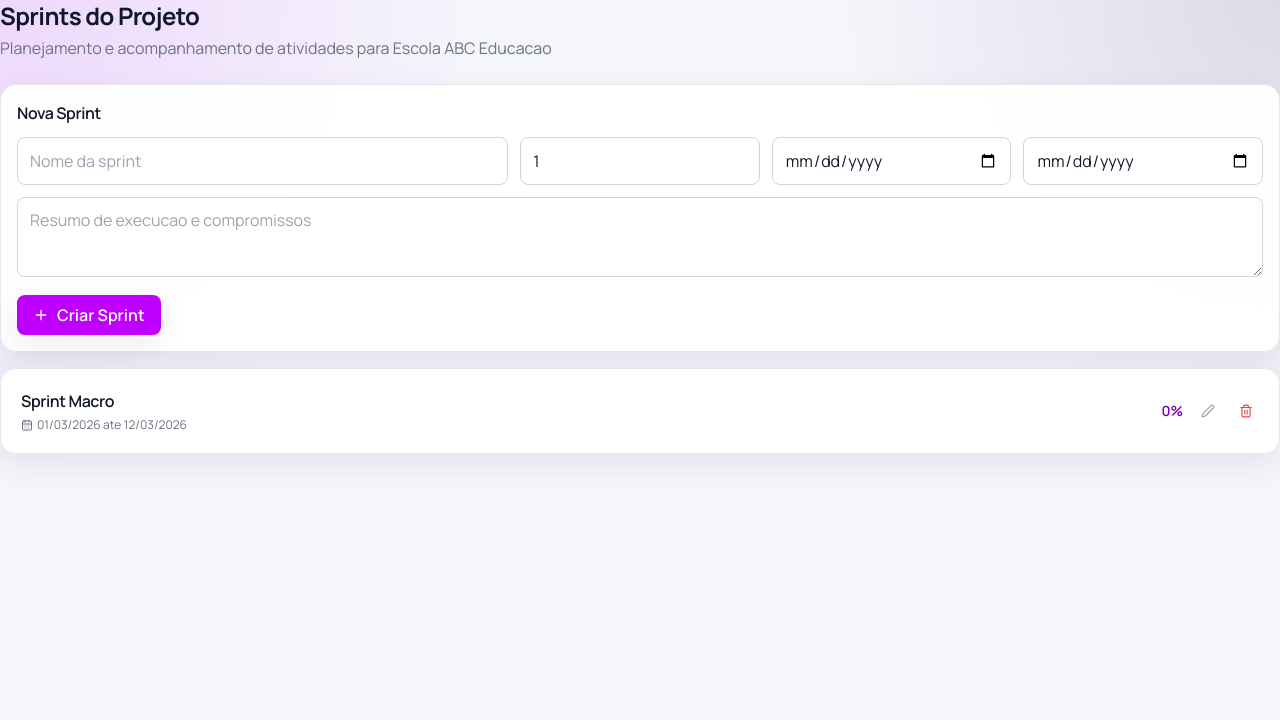
Scenario: Sprints — visao macro › expande sprint e carrega atividades
Click the heading "Sprint Macro". click: {"x": 68, "y": 401}
box: [21,390,114,412]
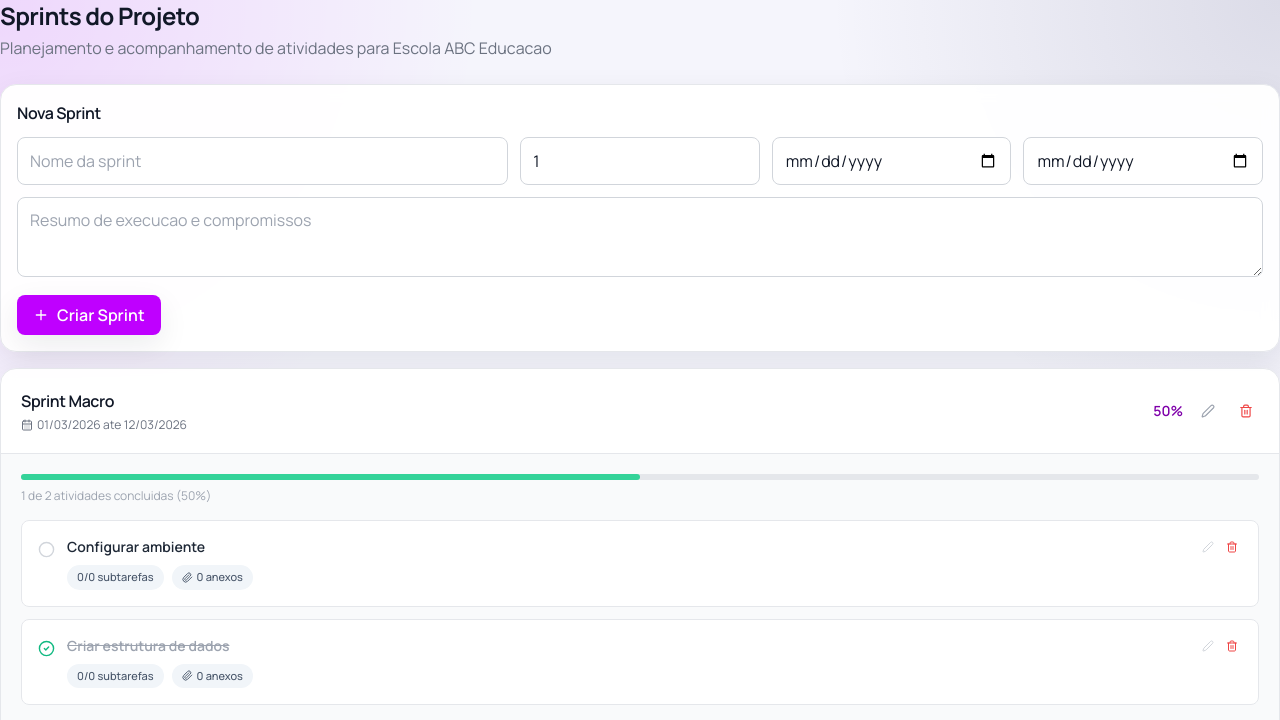
Now the text "Configurar ambiente" is shown, box [67,537,205,556]
Now the text "Criar estrutura de dados" is shown, box [67,636,253,656]
